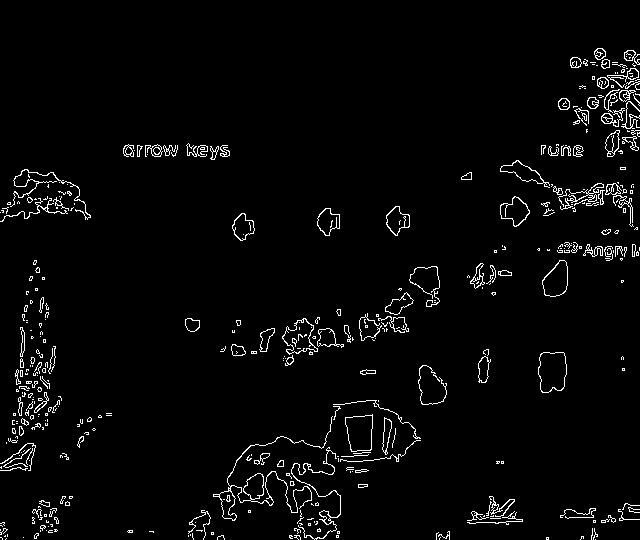left: (374, 201, 422, 246), (219, 206, 262, 250), (305, 200, 349, 243)
right: (494, 193, 540, 235)
